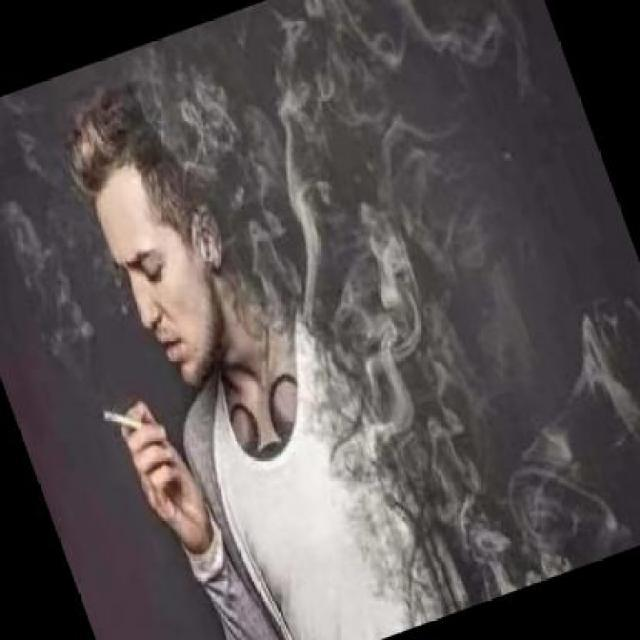cigarette: (100, 398, 146, 440)
